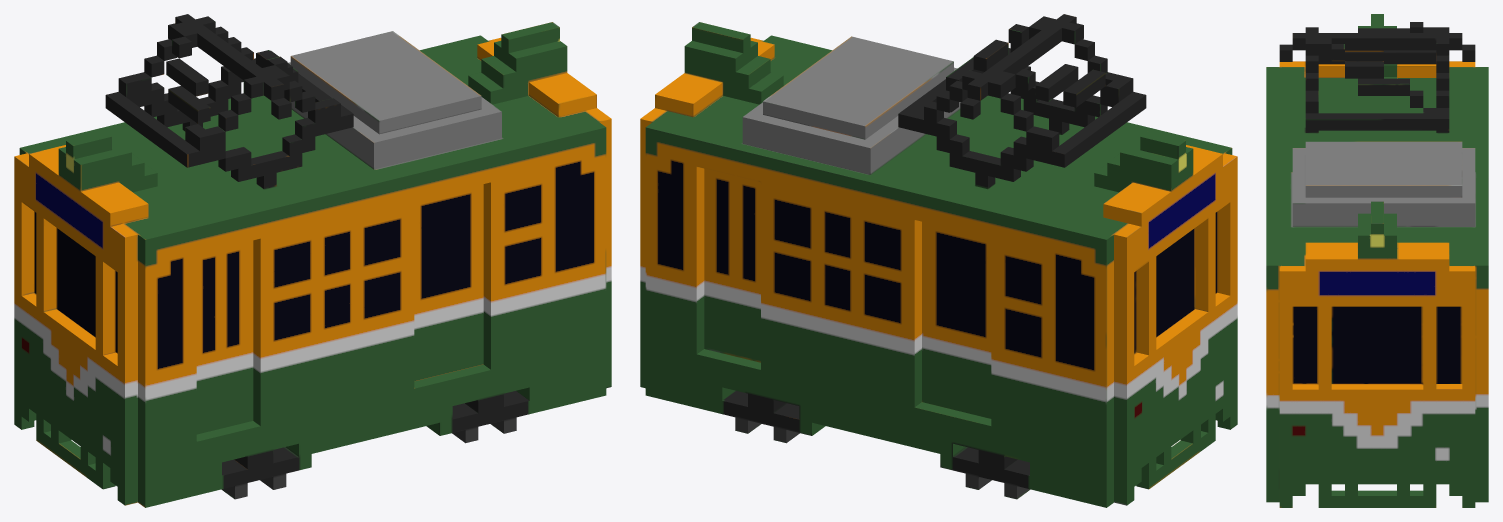
The model's file is kagoshimashiden1.glb.
The picture shows the model from 3 angles, left to right: view 1: azimuth 30°, elevation 25°; view 2: azimuth 150°, elevation 25°; view 3: azimuth 270°, elevation 25°; orthographic projection. The views are drawn at different scales.
Visible parts, largest first — view 1: kagoshimashiden1; view 2: kagoshimashiden1; view 3: kagoshimashiden1.
Boxes of the visible parts, bbox=[...] form: kagoshimashiden1: bbox=[14, 14, 611, 507]; kagoshimashiden1: bbox=[640, 14, 1237, 507]; kagoshimashiden1: bbox=[1266, 14, 1488, 507].
Size of the model in its own units: 0.76 by 0.58 by 0.34.
Materials: 1 (1 with a texture image).
